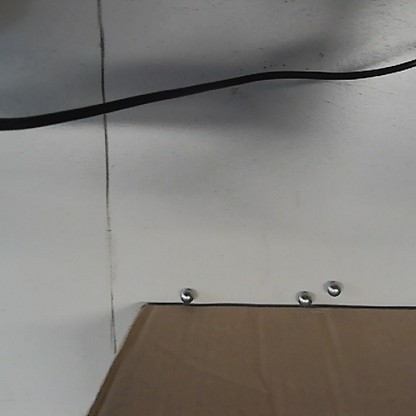ironball: (322, 278, 342, 298), (294, 286, 311, 308), (178, 284, 194, 303)
